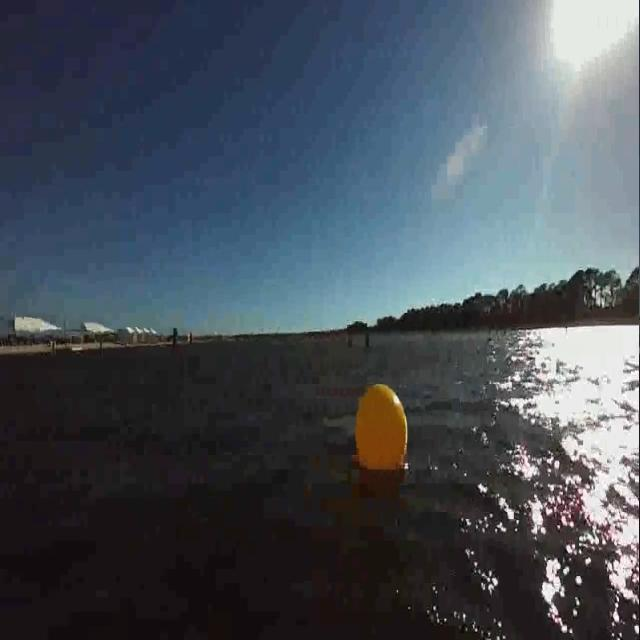yellow-buoy: (354, 381, 407, 474)
